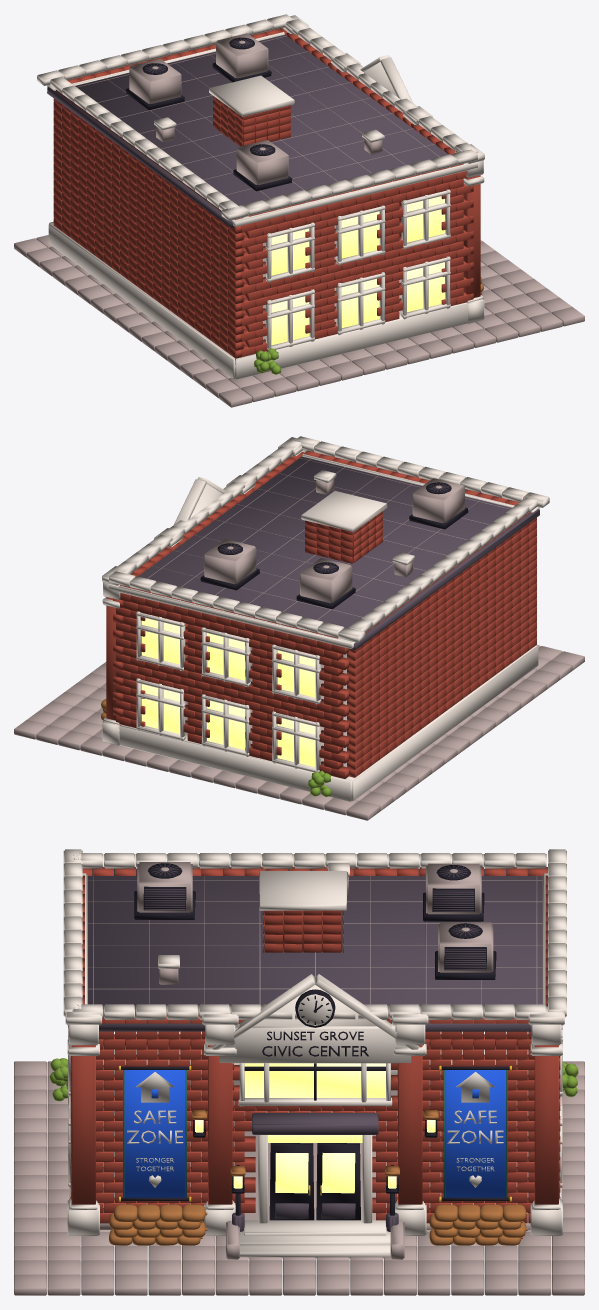
3 views of the same model, one above another, from view 1: azimuth 30°, elevation 25°; view 2: azimuth 150°, elevation 25°; view 3: azimuth 270°, elevation 25° (orthographic). The views are drawn at different scales.
Parts seen in each view (by area): view 1: object 5, roof; view 2: object 5, roof; view 3: object 5, roof, door_R, door_L, interior.
Boxes of the visible parts, bbox=[...] form: object 5: bbox=[14, 15, 584, 407]; roof: bbox=[37, 14, 478, 228]; object 5: bbox=[14, 437, 584, 820]; roof: bbox=[109, 436, 549, 650]; object 5: bbox=[14, 867, 584, 1295]; roof: bbox=[63, 849, 566, 1031]; door_R: bbox=[316, 1143, 360, 1220]; door_L: bbox=[269, 1143, 314, 1220]; interior: bbox=[100, 1080, 530, 1229].
Size of the model in its own units: 13.58 by 7.39 by 14.43.
